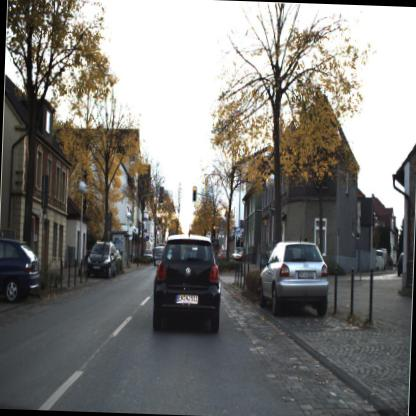danger: (216, 246, 228, 261)
